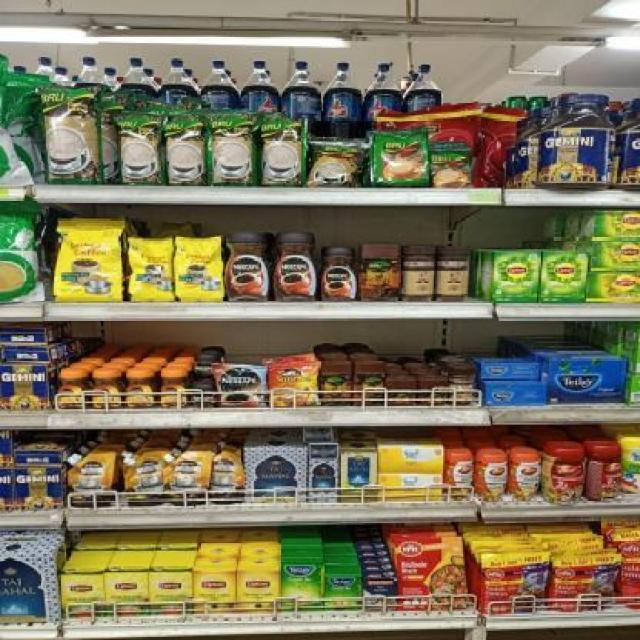Coffee: (273, 233, 318, 302), (225, 232, 270, 300), (216, 366, 268, 409), (271, 362, 320, 406), (320, 247, 357, 302), (91, 372, 124, 409), (58, 371, 88, 410), (125, 371, 156, 408), (159, 371, 188, 408), (190, 383, 216, 408), (193, 352, 214, 376)
